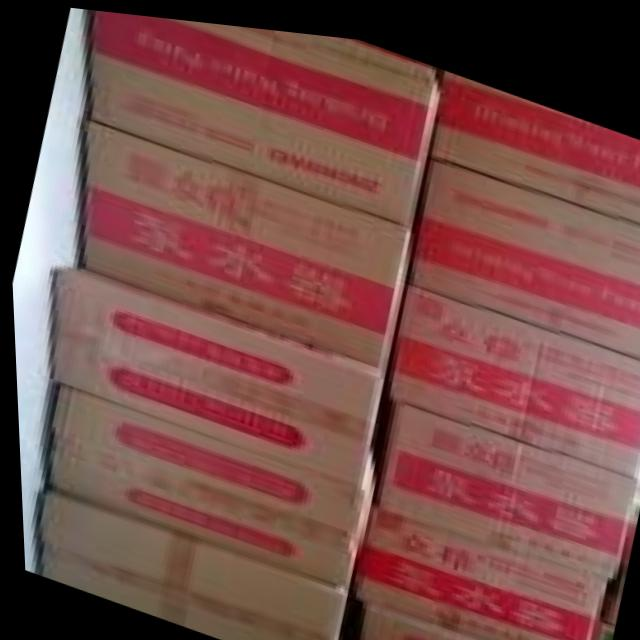box: (76, 118, 408, 362), (85, 8, 438, 217), (45, 268, 377, 480), (39, 386, 375, 583), (25, 486, 339, 640), (383, 277, 640, 465), (407, 148, 640, 343), (373, 393, 635, 565), (348, 504, 600, 640), (428, 59, 640, 209), (349, 591, 509, 640)
